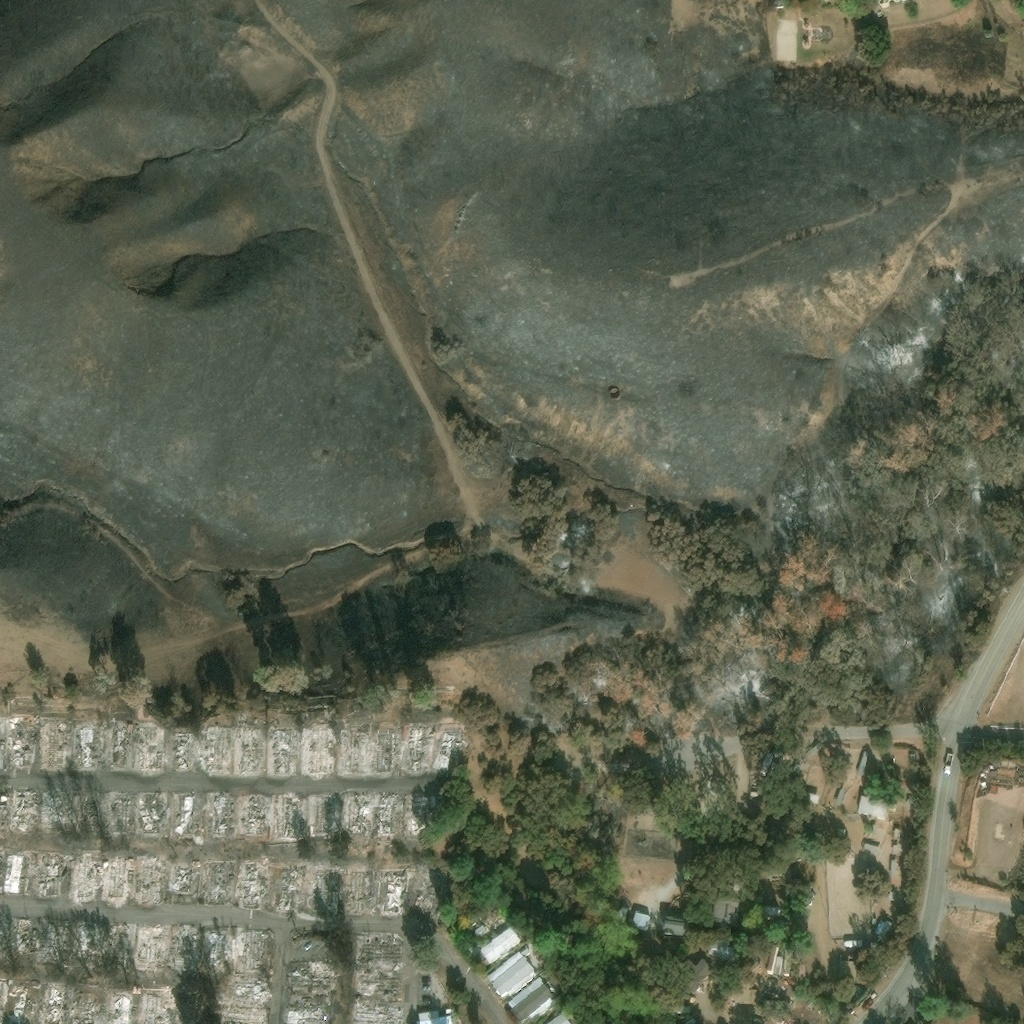0 no-damage: (485, 951, 538, 1002), (509, 978, 555, 1023), (479, 928, 522, 967), (674, 958, 713, 995), (858, 795, 891, 822), (839, 960, 870, 986), (707, 940, 737, 966), (714, 897, 741, 922), (631, 911, 653, 933), (416, 1010, 452, 1023), (664, 915, 686, 936), (766, 946, 779, 976), (796, 790, 820, 806), (857, 751, 872, 775), (755, 905, 781, 917), (774, 957, 785, 978), (732, 880, 744, 899), (864, 843, 881, 856), (474, 925, 488, 940), (617, 906, 630, 921), (875, 919, 887, 935), (549, 1014, 570, 1023), (837, 790, 846, 804), (844, 941, 865, 947), (892, 860, 897, 872), (890, 891, 896, 901), (895, 829, 901, 837), (751, 792, 759, 797), (894, 845, 898, 850)
3 destroyed: (413, 867, 451, 917), (7, 714, 41, 766), (356, 934, 404, 969), (290, 959, 335, 994), (375, 870, 409, 916), (273, 865, 305, 913), (133, 721, 164, 770), (199, 724, 231, 771), (268, 728, 300, 775), (299, 726, 331, 773), (233, 726, 266, 771), (400, 726, 432, 772), (273, 795, 305, 841), (431, 731, 466, 773), (69, 857, 104, 899), (306, 868, 340, 911), (37, 854, 70, 898), (168, 926, 201, 970), (41, 720, 73, 765), (204, 861, 236, 906), (305, 794, 339, 836), (137, 792, 170, 835), (134, 857, 167, 900), (236, 929, 269, 972), (73, 723, 105, 767), (403, 793, 437, 834), (241, 794, 274, 836), (172, 793, 203, 837), (103, 922, 137, 962), (357, 969, 402, 999), (343, 870, 373, 914), (207, 793, 238, 835), (237, 864, 268, 906), (106, 721, 134, 767), (343, 728, 371, 774), (341, 795, 370, 839), (370, 733, 401, 774), (372, 795, 403, 836), (4, 854, 35, 895), (37, 986, 71, 1023), (170, 859, 203, 897), (105, 793, 137, 832), (167, 731, 198, 771), (10, 790, 38, 834), (104, 859, 134, 900), (138, 925, 169, 964), (7, 984, 38, 1023), (231, 974, 266, 1007), (41, 919, 70, 958), (354, 999, 401, 1023), (141, 988, 173, 1023), (203, 931, 234, 967), (287, 996, 328, 1023), (45, 789, 75, 824), (77, 920, 105, 957), (106, 993, 139, 1023), (10, 918, 38, 953), (80, 792, 105, 821), (73, 1000, 103, 1023), (224, 1009, 264, 1023), (0, 715, 9, 765), (0, 977, 9, 1023), (0, 918, 8, 957), (0, 792, 9, 811), (663, 740, 676, 753), (0, 815, 6, 834)
4 un-classified: (909, 755, 917, 760)
